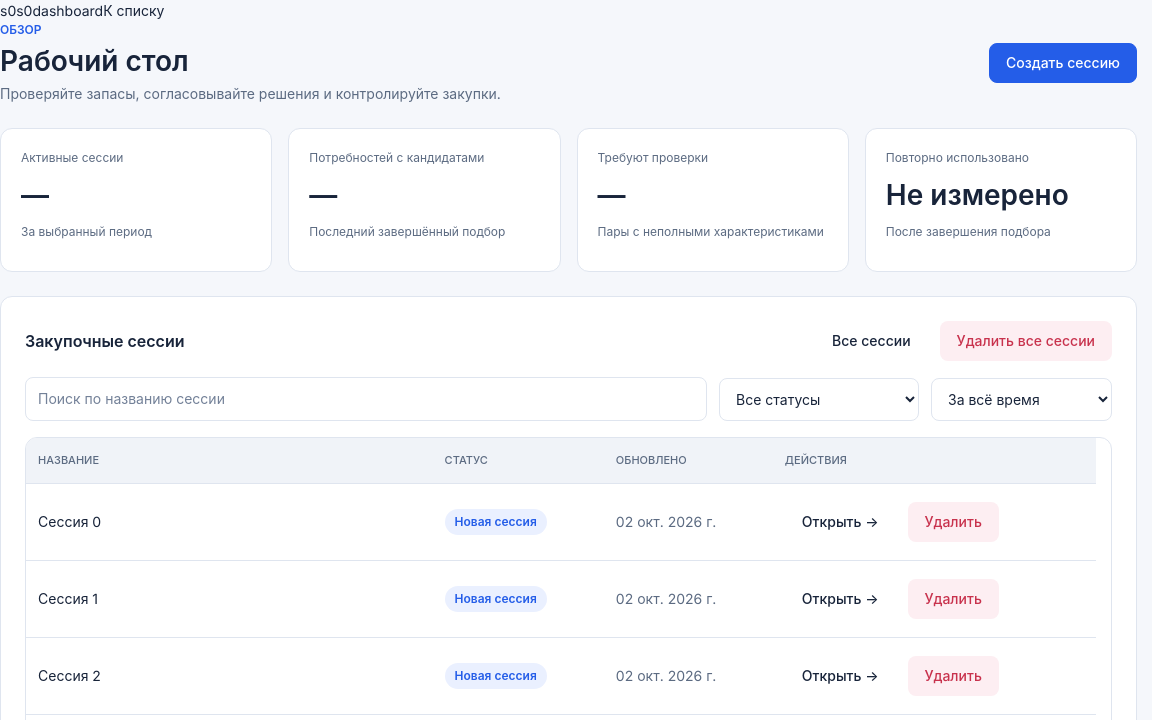
Test case: session deletion › keeps partial bulk failures visible after deleting the selected session
Click the button "Удалить все сессии" at (1026, 341), box [940,321,1112,361]
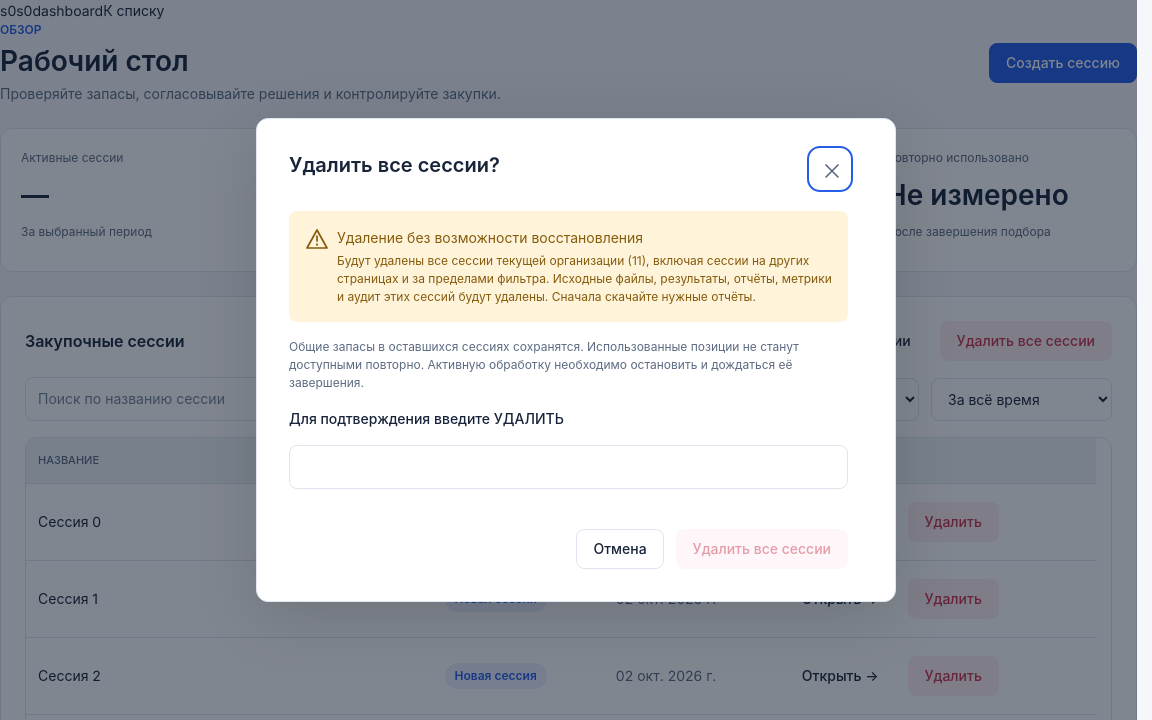
Type "УДАЛИТЬ" into the field named "Подтверждение удаления всех сессий" at (568, 467), box [289,445,848,489]
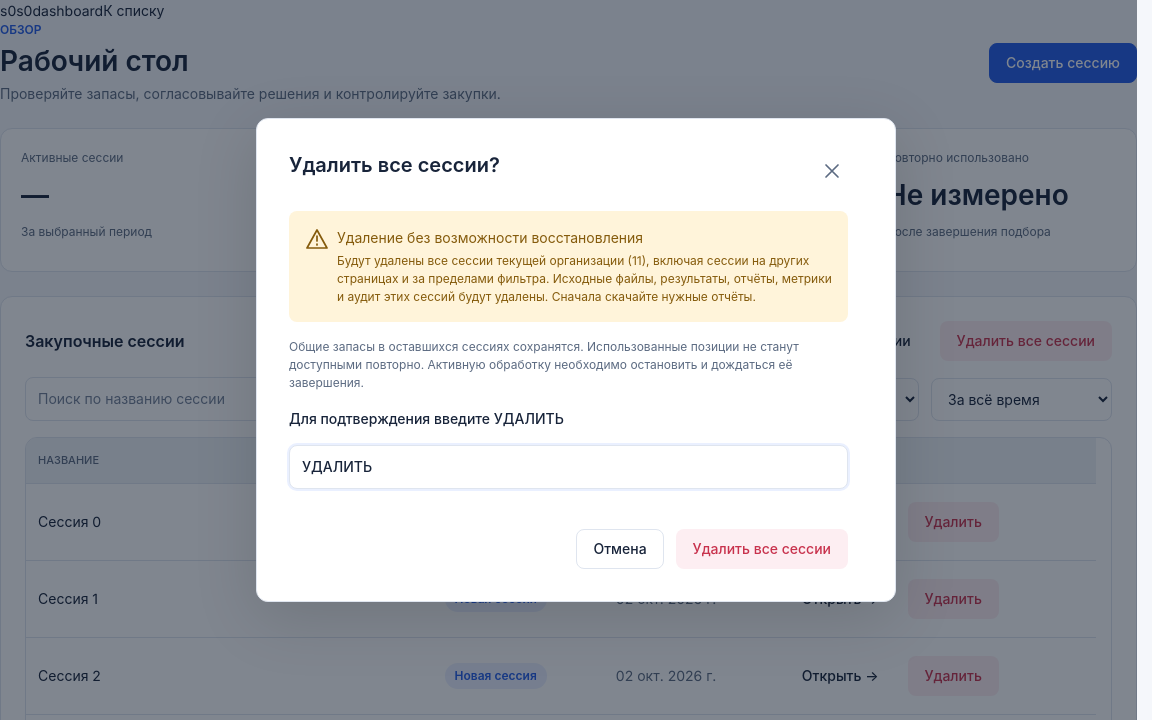
Click the button "Удалить все сессии" at (762, 549), box [676,529,848,569]
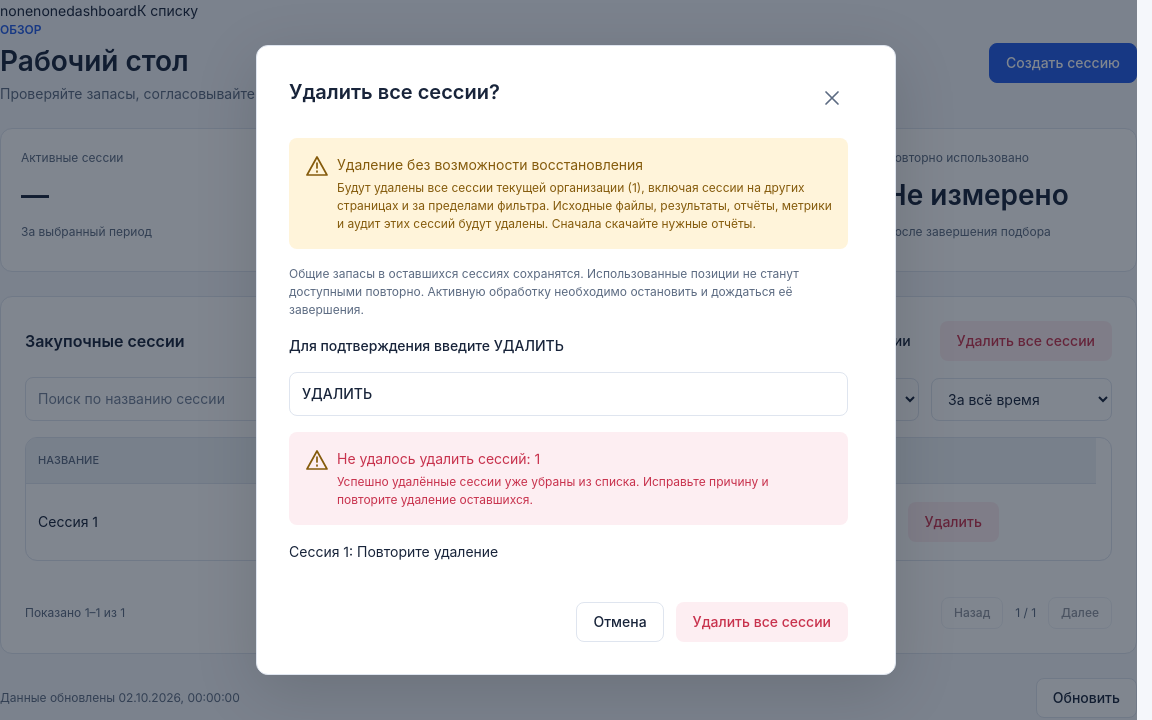
Expected: the text "Сессия 1" is shown, [26,483,433,560]
Now the text "Не удалось удалить сессий: 1" is shown, box [337,450,540,467]
Now the text named "Выбранная сессия" reads "none", box [0,2,33,19]
